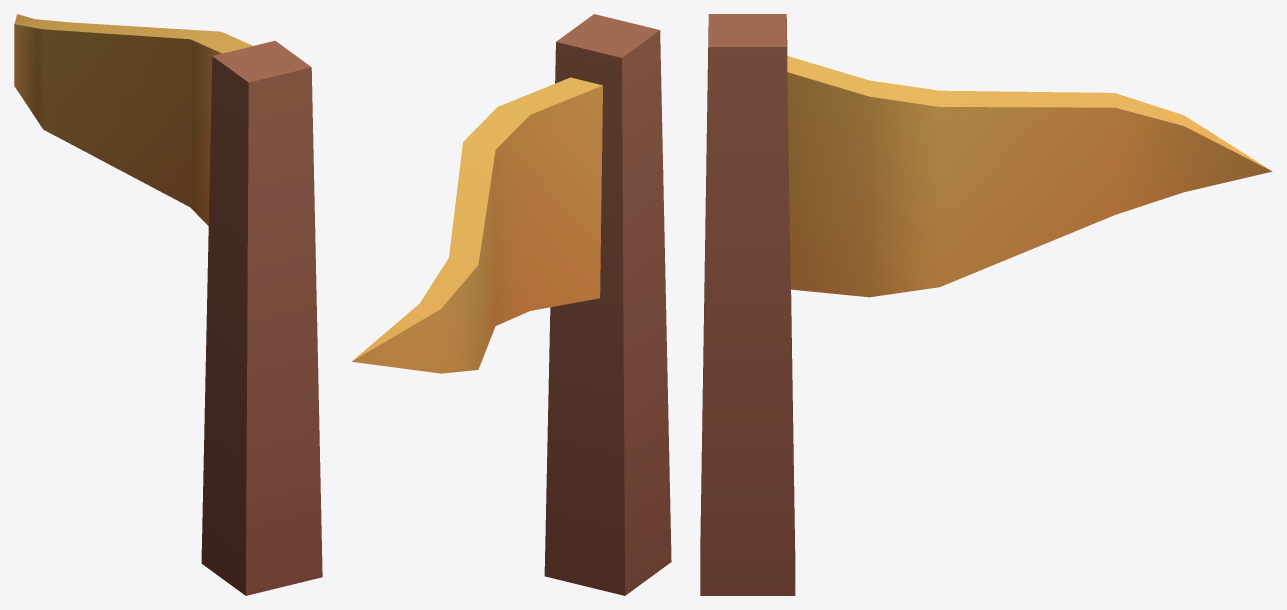
The model's file is flag_yellow.glb.
3 views of the same model, side by side, from view 1: azimuth 30°, elevation 25°; view 2: azimuth 150°, elevation 25°; view 3: azimuth 270°, elevation 25° (orthographic). The views are drawn at different scales.
Parts seen in each view (by area): view 1: flag_yellow; view 2: flag_yellow; view 3: flag_yellow.
Part boxes in pixels (x1,y1,x2,y2): flag_yellow: (14,14,322,595); flag_yellow: (352,14,671,595); flag_yellow: (700,14,1272,595).
Size of the model in its own units: 0.055 by 0.2775 by 0.264.
Materials: 1 (1 with a texture image).
